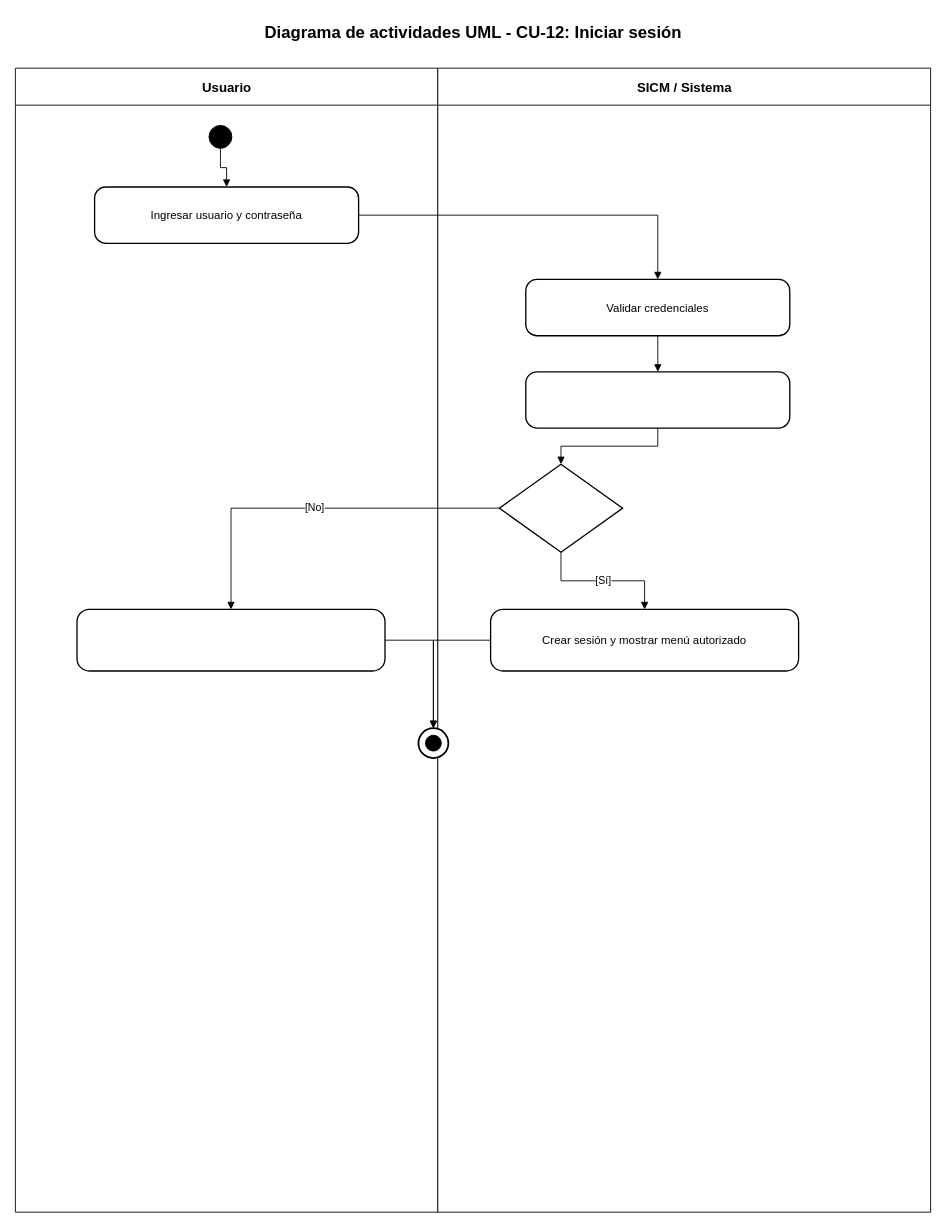
Some shapes in this 946 by 1228 pixel diagram are drawn without their labels. Each missing label, with the centre of its shape:
"Informar error y registrar intento fallido" goes at point (230, 639).
"Verificar estado de la cuenta y rol" goes at point (657, 399).
"¿Credenciales válidas?" goes at point (560, 507).
